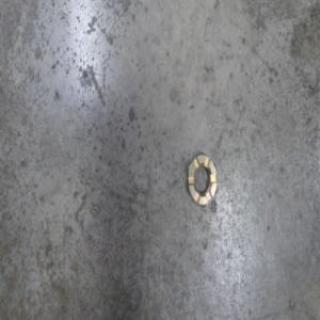Nuttrack_idkeyframe: (186, 149, 217, 208)
